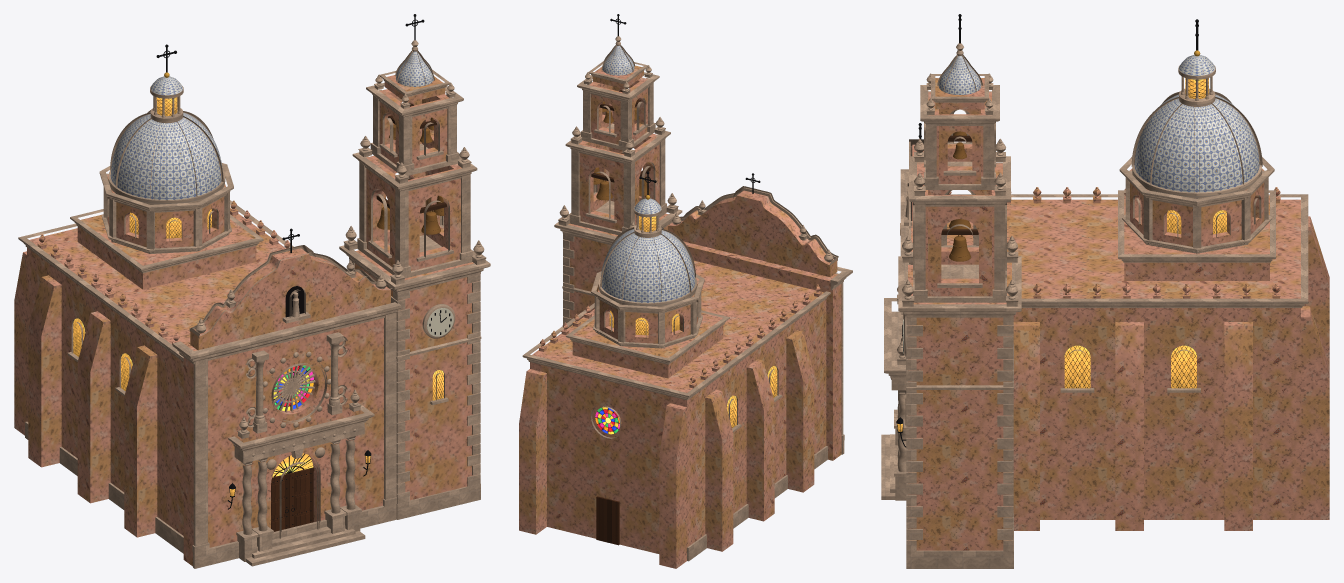
Rendered from w3_bg_iglesia.glb.
The picture shows the model from 3 angles, left to right: view 1: azimuth 30°, elevation 25°; view 2: azimuth 150°, elevation 25°; view 3: azimuth 270°, elevation 25°; orthographic projection. The views are drawn at different scales.
Parts seen in each view (by area): view 1: w3_bg_iglesia; view 2: w3_bg_iglesia; view 3: w3_bg_iglesia.
Part boxes in pixels (<box>): w3_bg_iglesia: <box>14,14,490,568</box>; w3_bg_iglesia: <box>519,14,852,568</box>; w3_bg_iglesia: <box>881,14,1329,568</box>.
Bounding box in the file's own units: 14.97 × 22.58 × 17.25.
6 materials, 6 textured.
